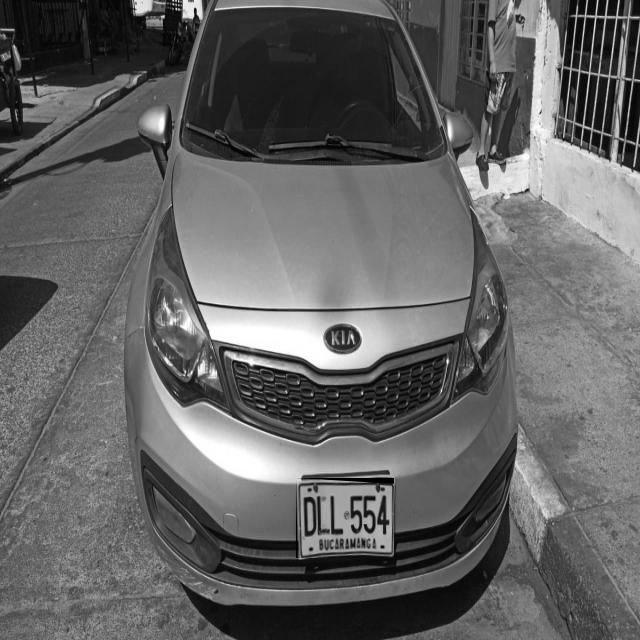plate: (296, 478, 394, 558)
